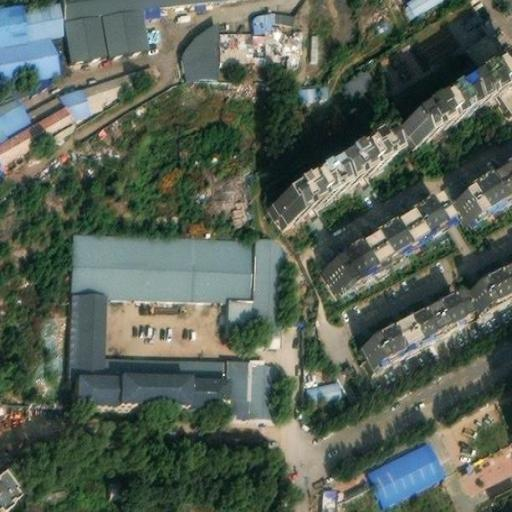building: (72, 226, 254, 292), (325, 211, 440, 292), (272, 142, 388, 222), (361, 302, 461, 369), (368, 435, 448, 502), (77, 365, 231, 398), (228, 231, 282, 325), (0, 99, 76, 162), (84, 58, 159, 106), (0, 28, 61, 82), (70, 287, 107, 367), (225, 354, 273, 410), (180, 17, 221, 80), (105, 352, 226, 371), (101, 3, 150, 49), (62, 8, 109, 55), (337, 65, 377, 101), (303, 375, 344, 405), (26, 89, 66, 118), (59, 81, 91, 114), (294, 81, 326, 104), (493, 78, 512, 112), (253, 7, 277, 26), (306, 30, 320, 62), (323, 482, 338, 502), (322, 501, 336, 512)
